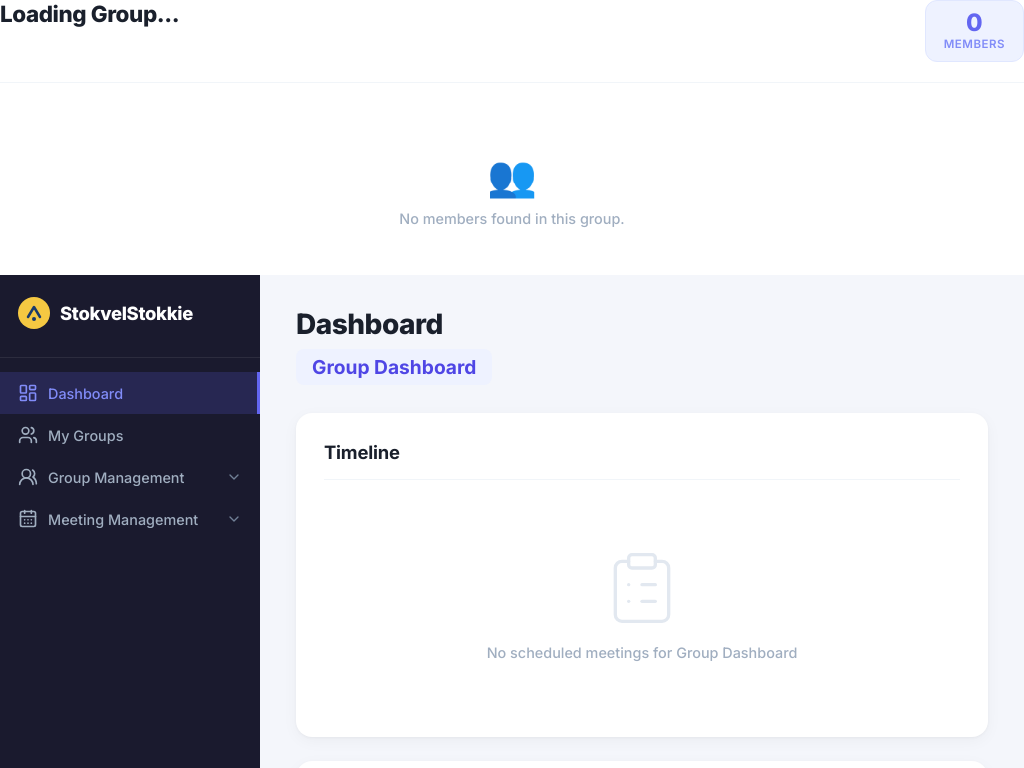
Test case: AdminDashboard Component › covers default prop fallbacks and missing name strings
Check: the heading "Loading Group..." is shown, box [0,0,179,27]
Click the button "Group Management" at (130, 477), box [0,456,260,498]
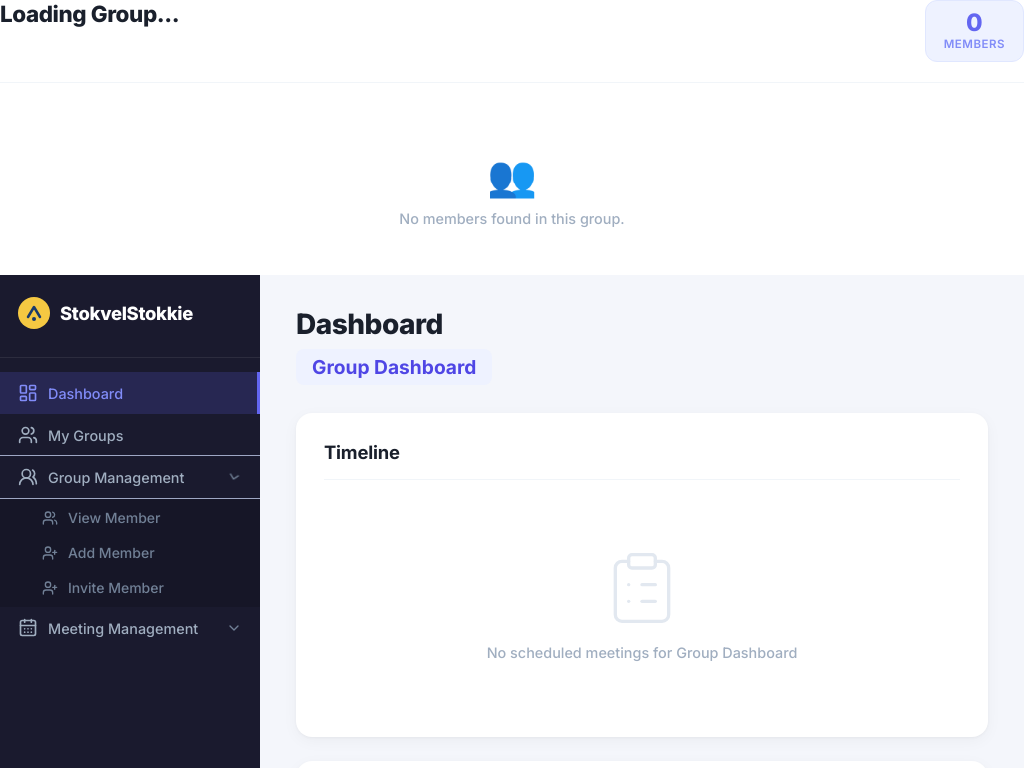
Click the button "View Member" at (130, 518), box [0,500,260,535]
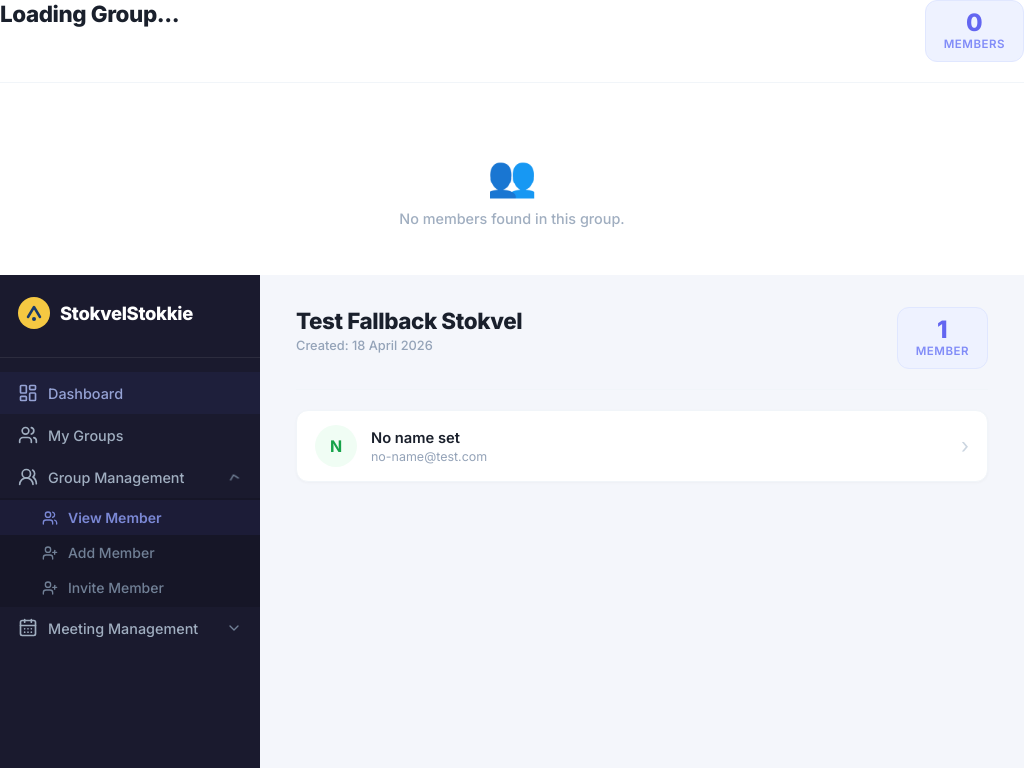
Check: the text "no-name@test.com" is shown, box [371,448,487,464]
